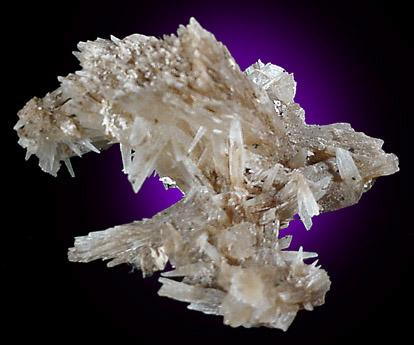calcite: (14, 18, 399, 330)
